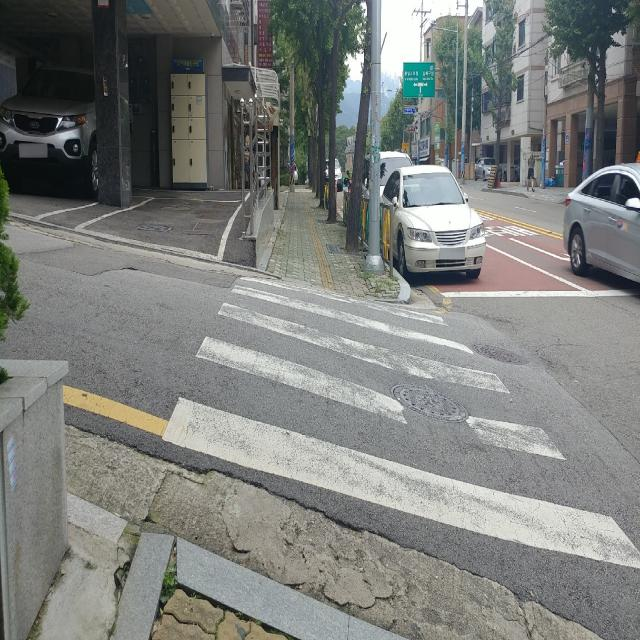횡단보도: (161, 276, 640, 570)
